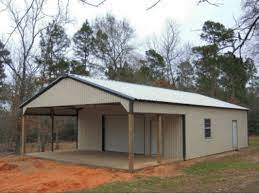Tin-shade House: (15, 73, 252, 163)
